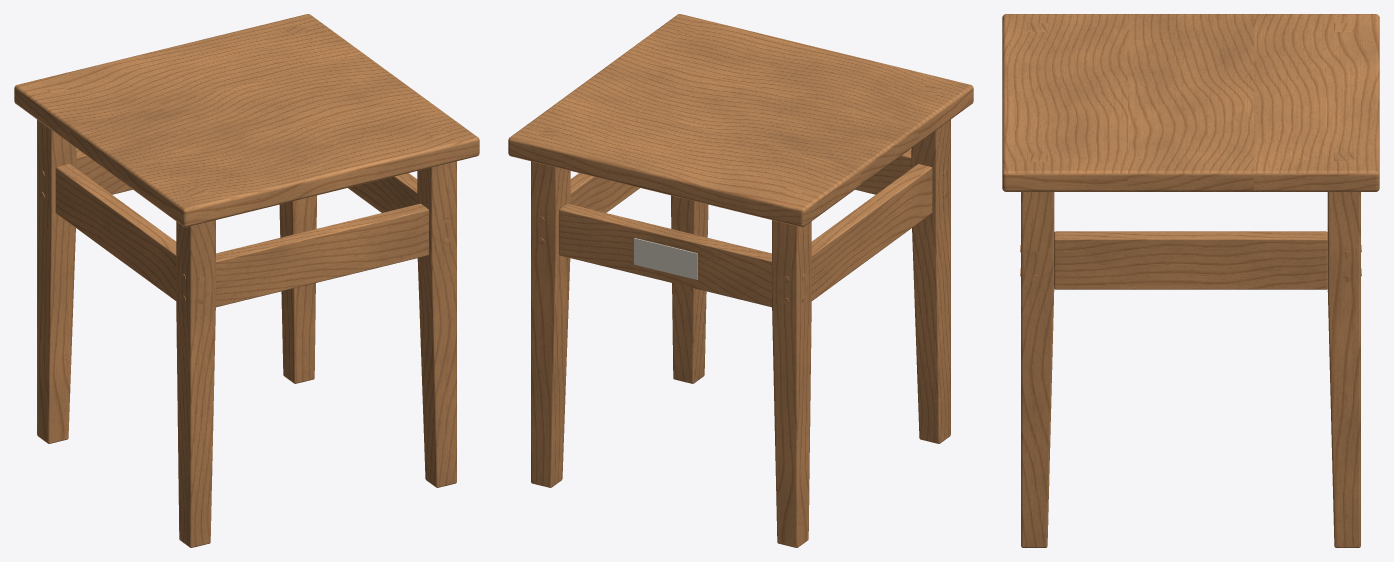
The model's file is Hocker01_Finish.fbx.
3 renders of one model, left to right at view 1: azimuth 30°, elevation 25°; view 2: azimuth 150°, elevation 25°; view 3: azimuth 270°, elevation 25°, orthographic. The views are drawn at different scales.
Visible parts, largest first — view 1: Hocker01_Finish__WoodFinish; view 2: Hocker01_Finish__WoodFinish, Hocker01_Finish__WallWhite; view 3: Hocker01_Finish__WoodFinish.
Part boxes in pixels (x1=…): Hocker01_Finish__WoodFinish: x1=14, y1=14, x2=479, y2=547; Hocker01_Finish__WoodFinish: x1=508, y1=14, x2=973, y2=547; Hocker01_Finish__WallWhite: x1=634, y1=238, x2=697, y2=279; Hocker01_Finish__WoodFinish: x1=1002, y1=14, x2=1379, y2=547.
Bounding box in the file's own units: 40 × 45 × 40.
Materials: 2 (1 with a texture image).
